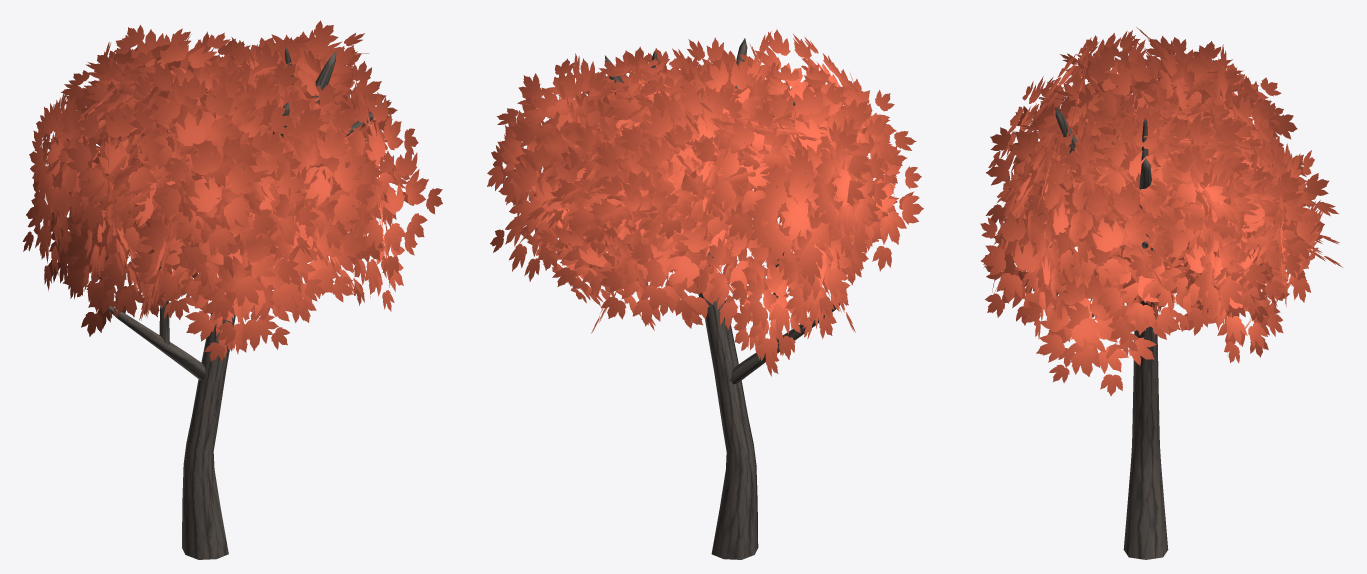
The model's file is q_maple_4.glb.
The picture shows the model from 3 angles, left to right: view 1: azimuth 30°, elevation 25°; view 2: azimuth 150°, elevation 25°; view 3: azimuth 270°, elevation 25°; orthographic projection. The views are drawn at different scales.
Parts seen in each view (by area): view 1: MapleTree_4; view 2: MapleTree_4; view 3: MapleTree_4.
Part boxes in pixels (x1,y1,x2,y2): MapleTree_4: (22,20,442,559); MapleTree_4: (487,29,923,559); MapleTree_4: (980,27,1342,559).
Size of the model in its own units: 4.24 by 5.5 by 3.73.
Materials: 2 (2 with a texture image).
